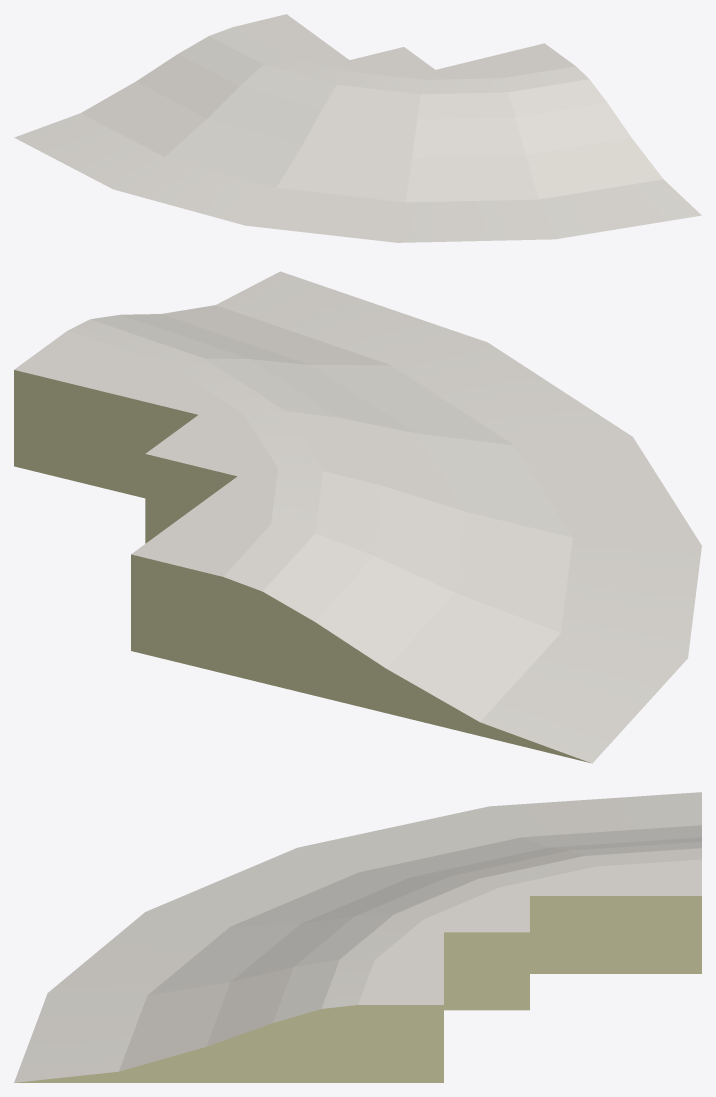
The model's file is Floor_Curve_Outer_8x8.glb.
3 renders of one model, top to bottom at view 1: azimuth 30°, elevation 25°; view 2: azimuth 150°, elevation 25°; view 3: azimuth 270°, elevation 25°, orthographic. The views are drawn at different scales.
Parts seen in each view (by area): view 1: Floor_Curve_Outer_8x8; view 2: Floor_Curve_Outer_8x8; view 3: Floor_Curve_Outer_8x8.
Boxes of the visible parts, box(x1,y1,x2,y2) form: Floor_Curve_Outer_8x8: box(14, 14, 701, 242); Floor_Curve_Outer_8x8: box(14, 271, 701, 763); Floor_Curve_Outer_8x8: box(14, 792, 701, 1082).
Bounding box in the file's own units: 800 × 100 × 800.
